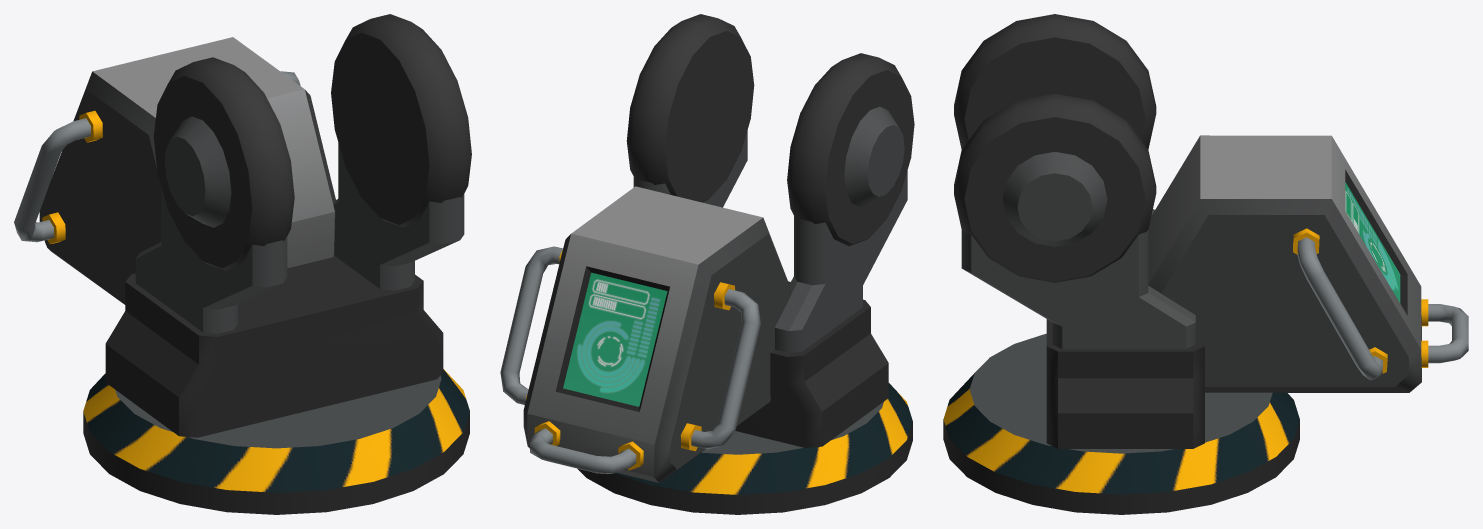
Rendered from Turret_008_Part_01.fbx.
3 views of the same model, side by side, from view 1: azimuth 30°, elevation 25°; view 2: azimuth 150°, elevation 25°; view 3: azimuth 270°, elevation 25° (orthographic). The views are drawn at different scales.
Visible parts, largest first — view 1: Turret_008_Part_01; view 2: Turret_008_Part_01; view 3: Turret_008_Part_01.
Boxes of the visible parts, x1,y1,x2,y2 form: Turret_008_Part_01: (14, 14, 471, 514); Turret_008_Part_01: (500, 14, 914, 514); Turret_008_Part_01: (943, 14, 1468, 514).
Bounding box in the file's own units: 77.13 × 114 × 91.13.
